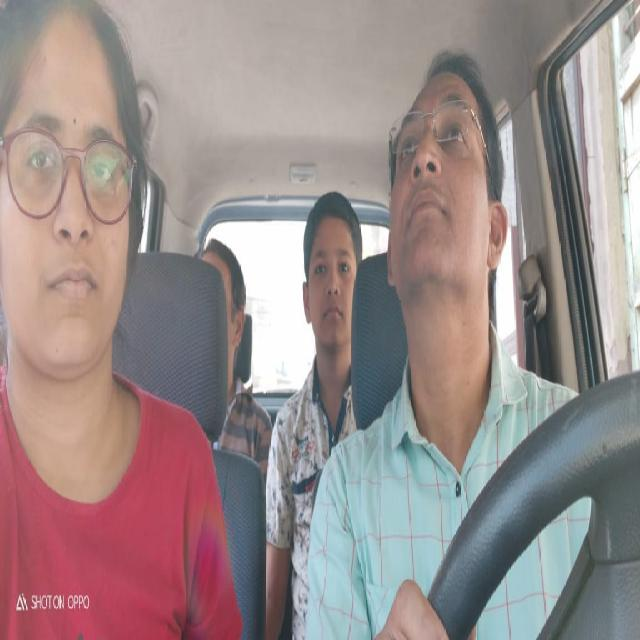person: (0, 0, 146, 376), (382, 44, 505, 331), (298, 186, 365, 381), (209, 215, 251, 385)
